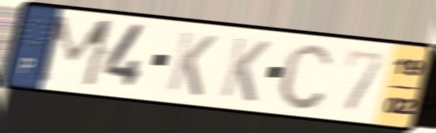4: (101, 20, 147, 95)
7: (342, 47, 387, 116)
C: (275, 40, 336, 112)
K: (164, 29, 220, 100), (217, 34, 273, 105)
M: (33, 13, 119, 91)
